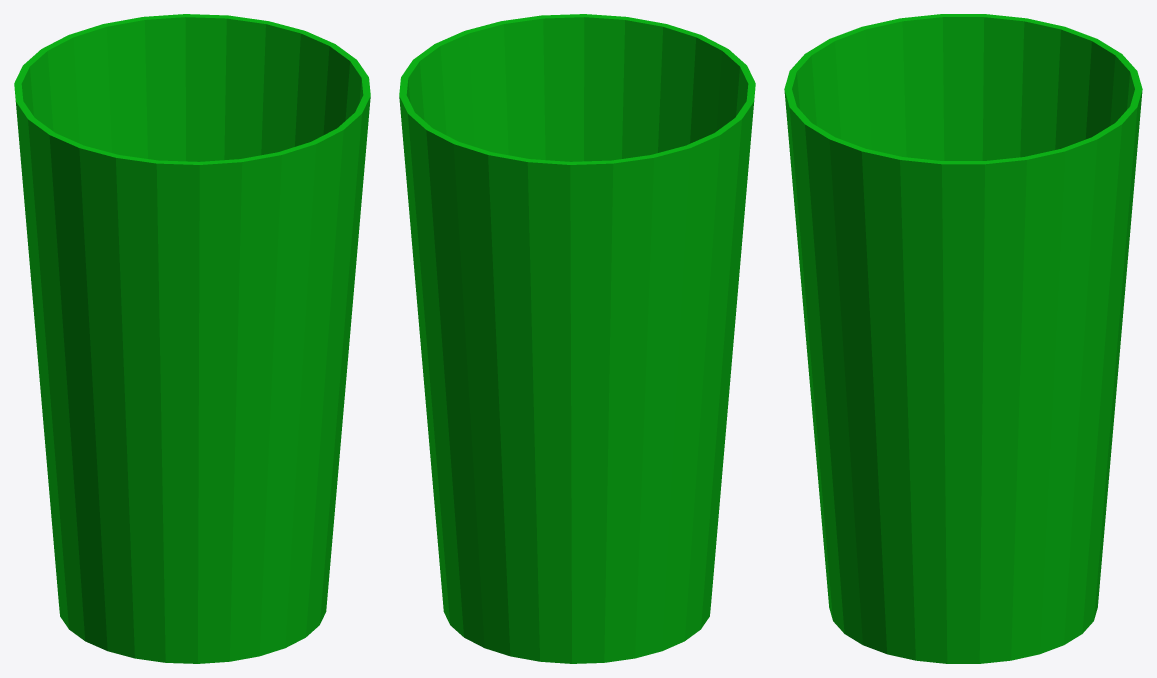
Rendered from cup_green.dae.
3 renders of one model, left to right at view 1: azimuth 30°, elevation 25°; view 2: azimuth 150°, elevation 25°; view 3: azimuth 270°, elevation 25°, orthographic.
Parts seen in each view (by area): view 1: node; view 2: node; view 3: node.
Boxes of the visible parts, bbox=[...] form: node: bbox=[14, 14, 370, 663]; node: bbox=[399, 14, 755, 663]; node: bbox=[784, 14, 1142, 663].
Size of the model in its own units: 0.0715 by 0.072 by 0.115.
